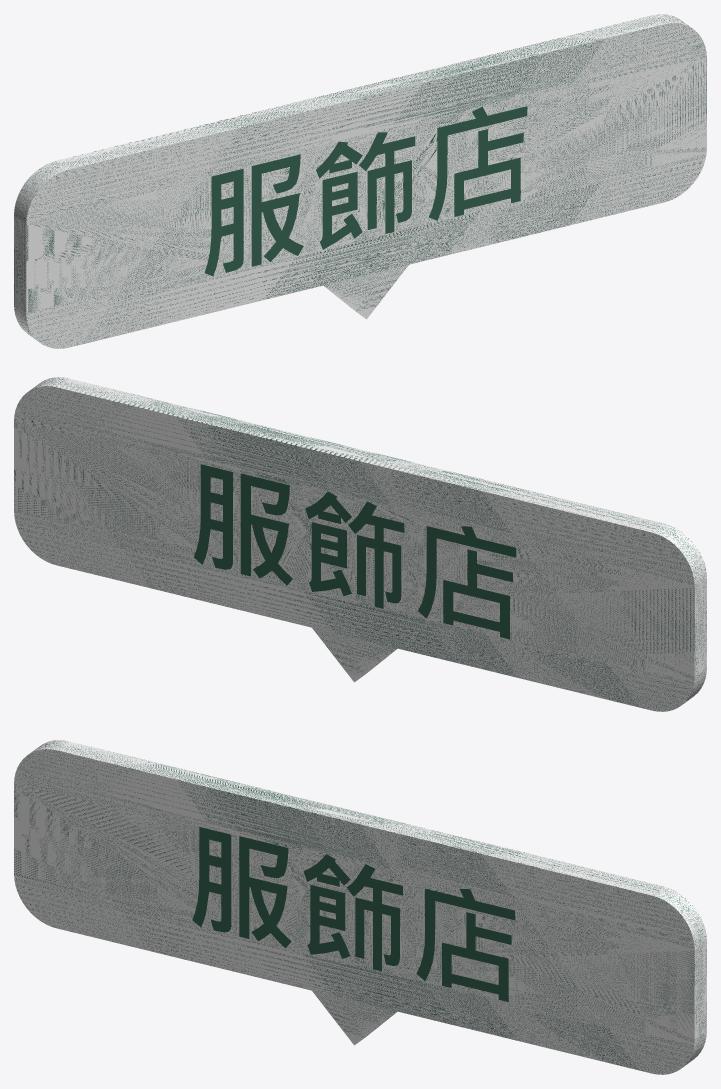
Rendered from titleShoptw.dae.
3 views of the same model, one above another, from view 1: azimuth 30°, elevation 25°; view 2: azimuth 150°, elevation 25°; view 3: azimuth 330°, elevation 25° (orthographic).
Parts seen in each view (by area): view 1: 差異 (×2), instance_0 (×7); view 2: 差異 (×2), instance_1 (×7); view 3: 差異 (×2), instance_0 (×7).
Part boxes in pixels (left/top/right/bottom): 差異 (×2): left=14, top=14, right=706, bottom=348; instance_0 (×7): left=204, top=106, right=527, bottom=276; 差異 (×2): left=14, top=377, right=706, bottom=711; instance_1 (×7): left=194, top=464, right=516, bottom=639; 差異 (×2): left=14, top=740, right=706, bottom=1074; instance_0 (×7): left=192, top=827, right=514, bottom=1001.
Bounding box in the file's own units: 630 × 19.69 × 197.
